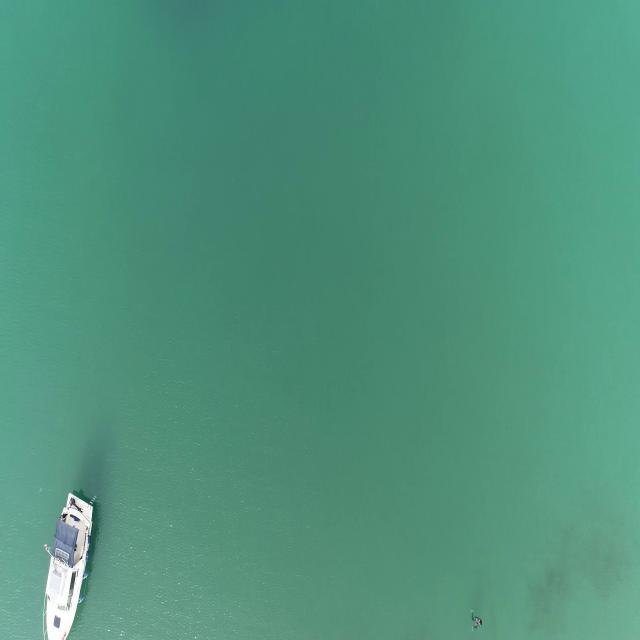boat: (38, 490, 99, 640)
person: (469, 612, 485, 629)
